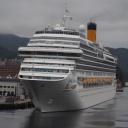cruises: (18, 7, 119, 116)
